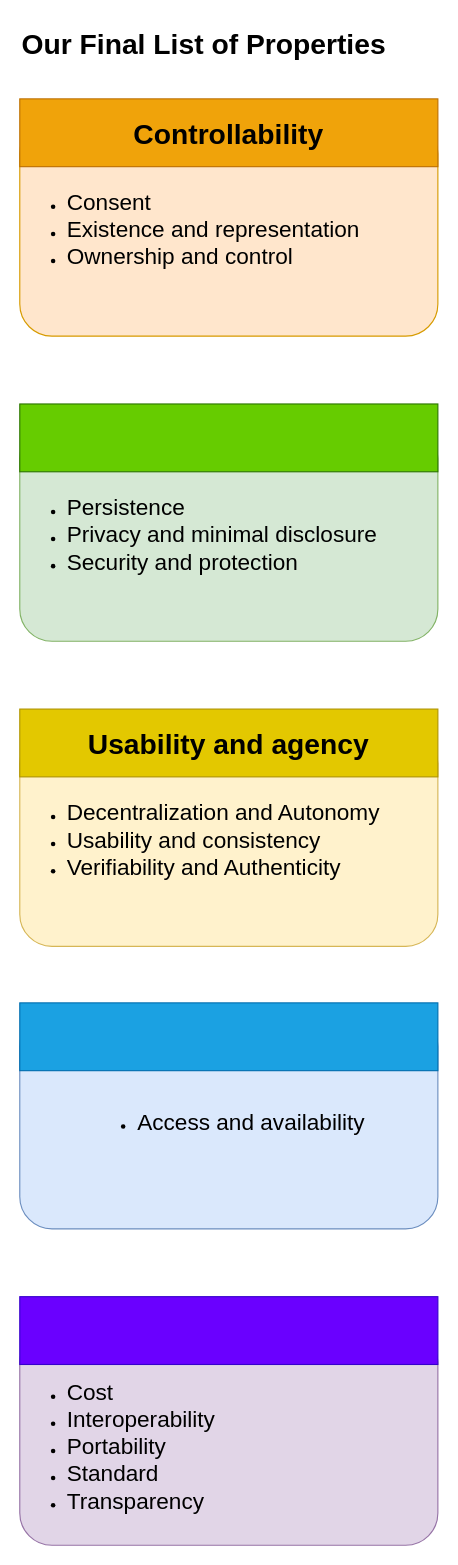
The diagram is 458 pixels wide and 1565 high, and some of its shapes have lost their labels. Here are the shapes that lost their labels. From the top down, the centre of each, then its label:
At pixel 228 437: "Security".
At pixel 228 1036: "Mobility".
At pixel 228 1330: "Sustainability and adoption".
